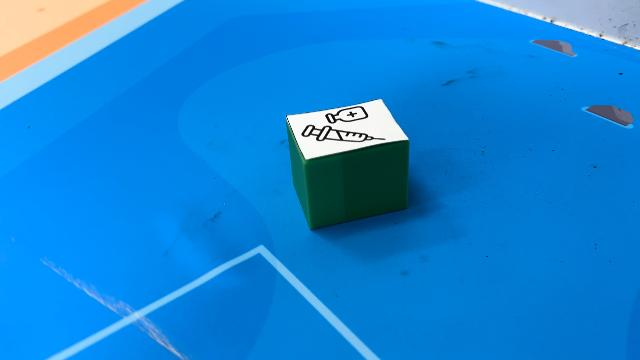syringe: (284, 98, 410, 230)
